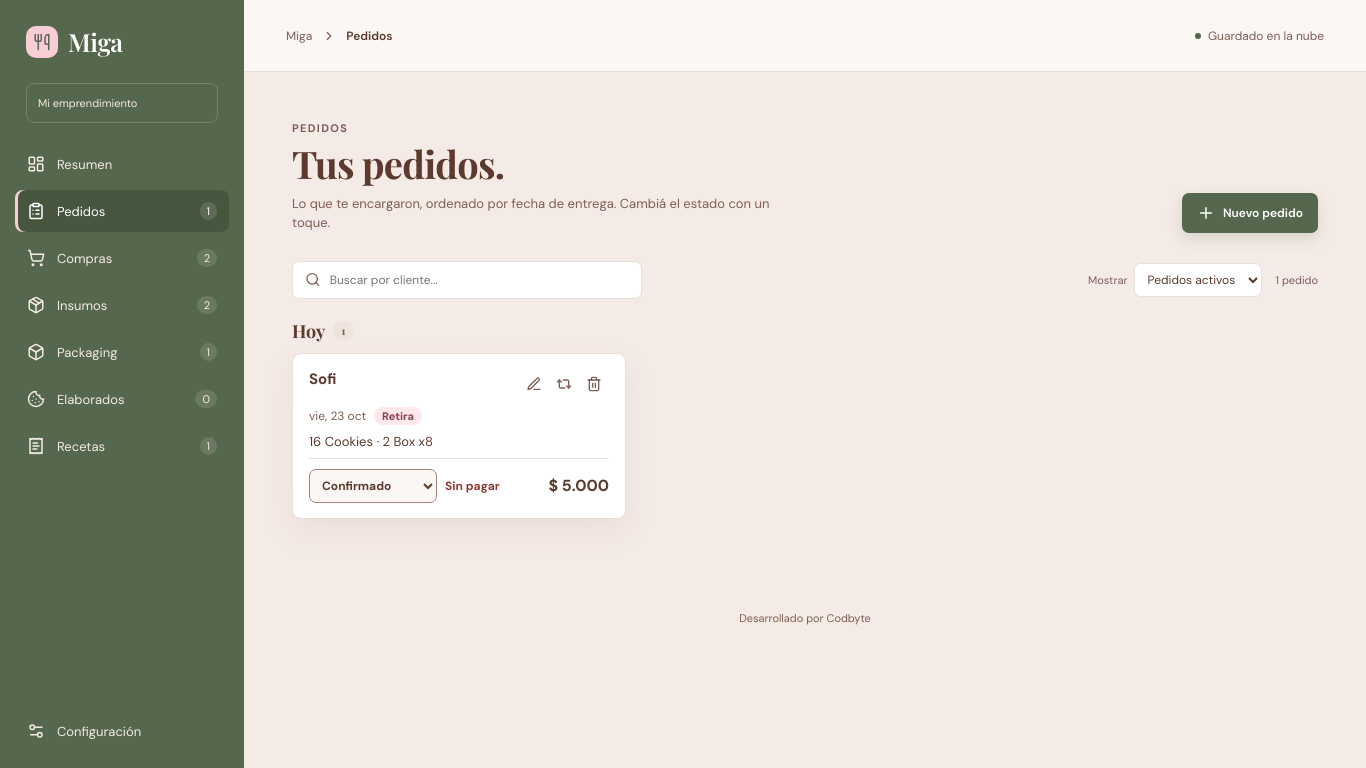
Test: Order stock › keeps asking while the stock is still not enough
Select "En preparación" in the dropdown named "Estado del pedido de Sofi" at [373, 486], box [309,469,437,503]
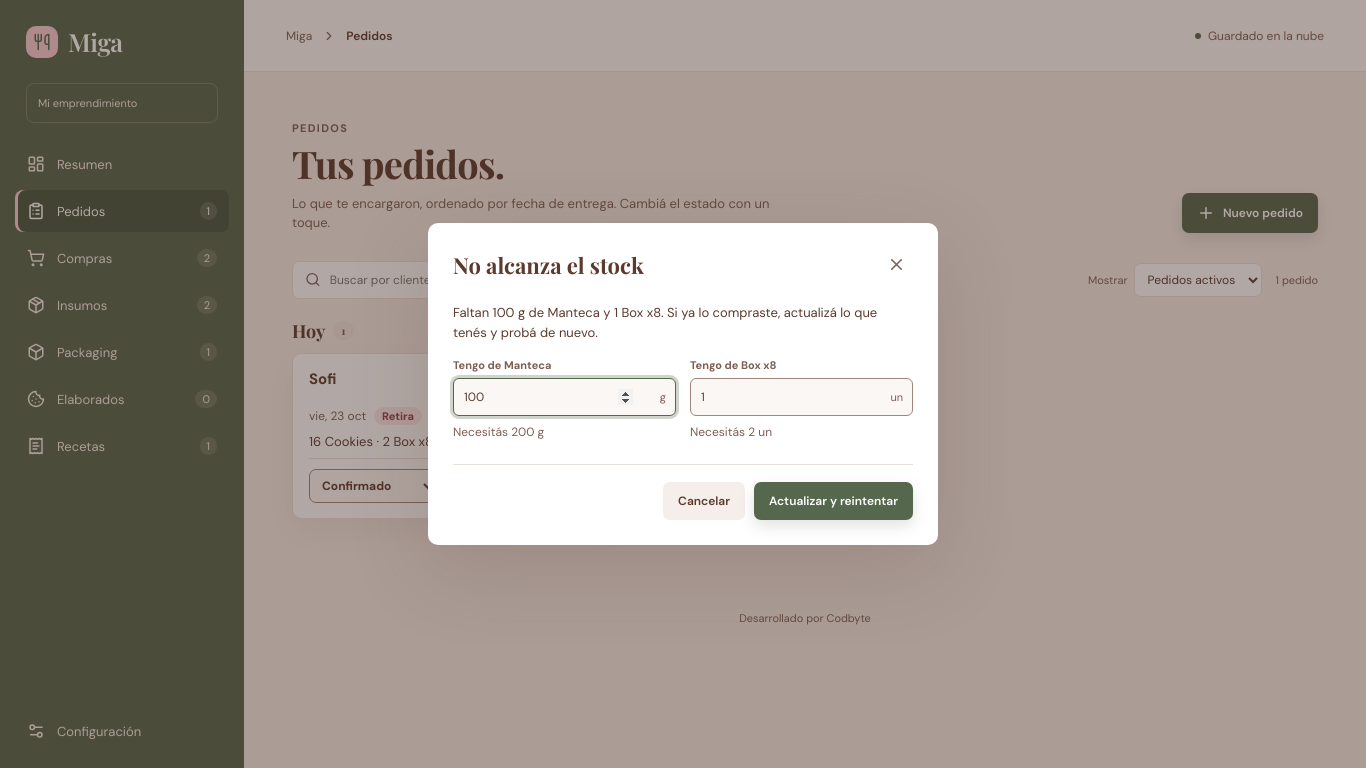
Replace the text in the number field labelled "Tengo de Manteca" with "1000" at [564, 397], box [453,378,676,416]
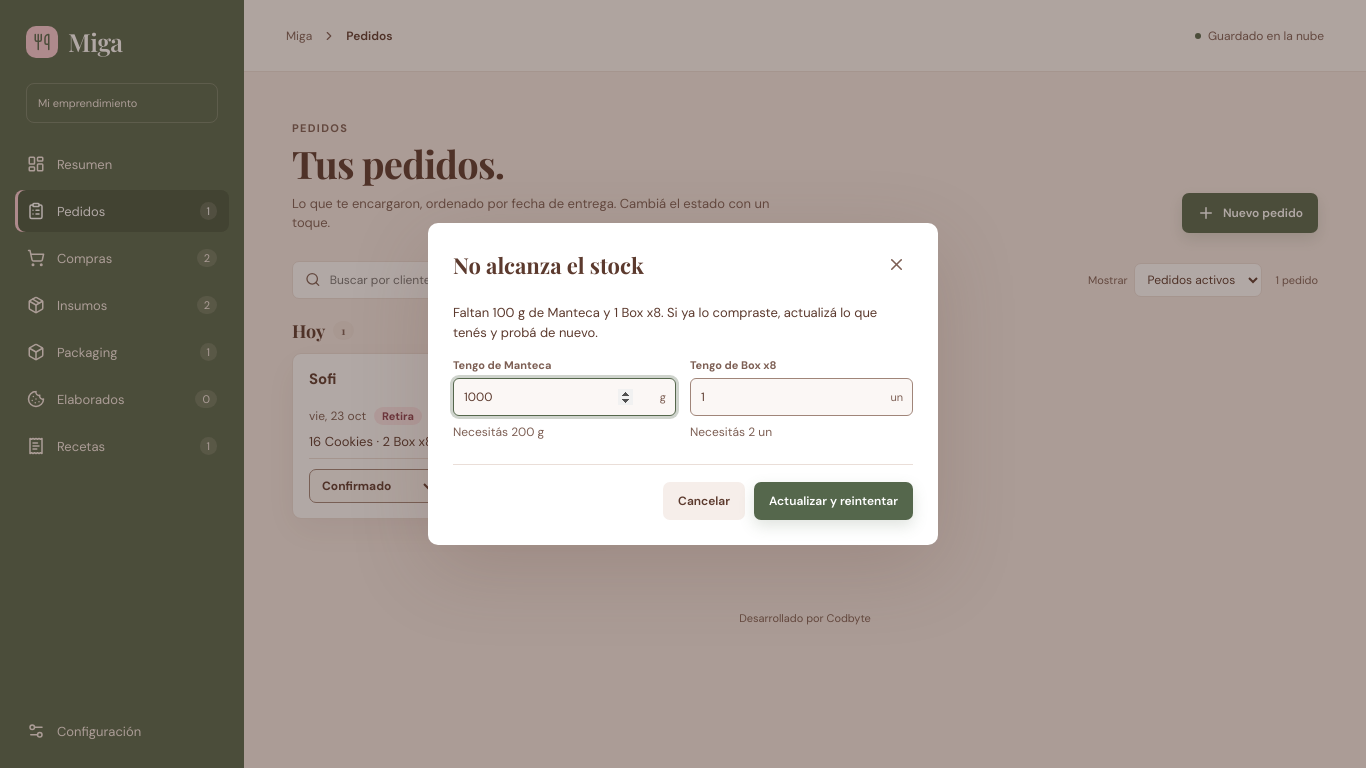
Click the button "Actualizar y reintentar" at [834, 501], box [754,482,913,520]
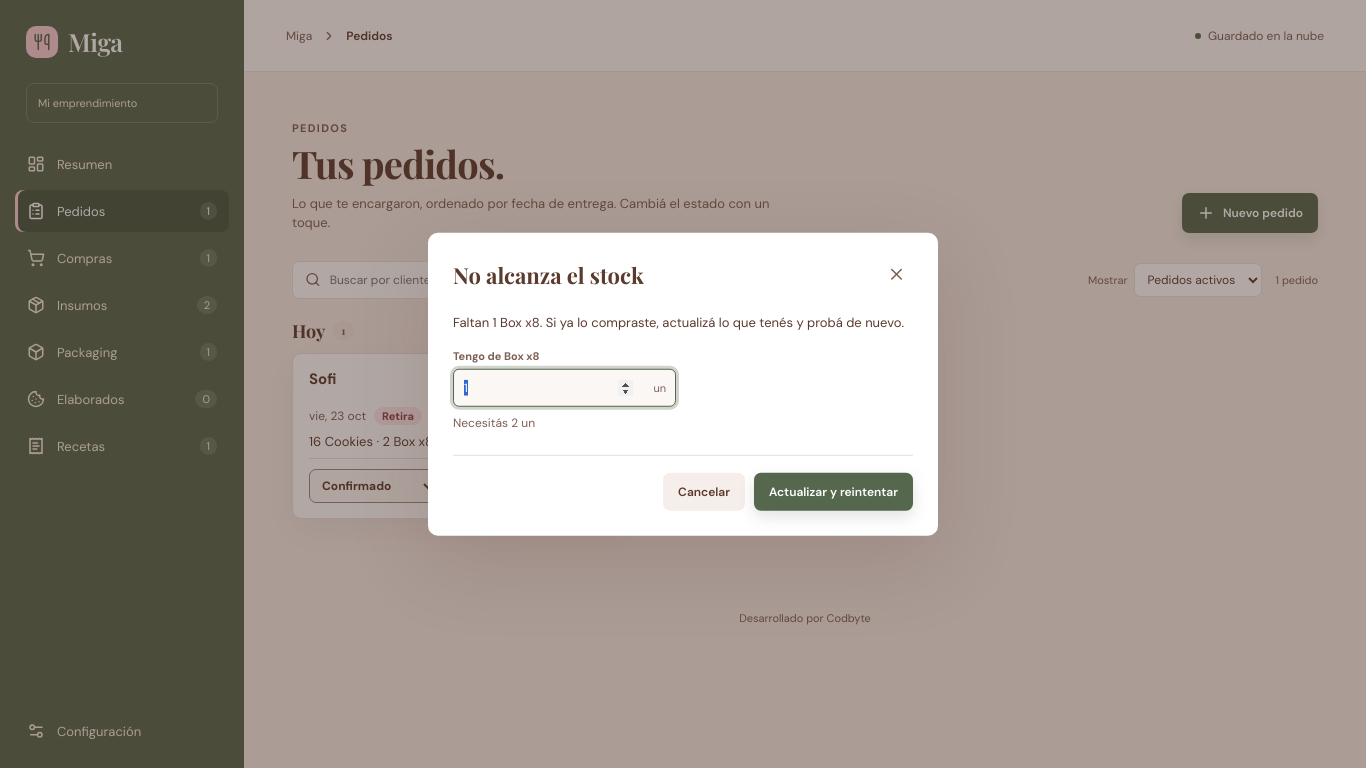
Expected: the dialog shows "Faltan 1 Box x8", [428,233,938,535]
